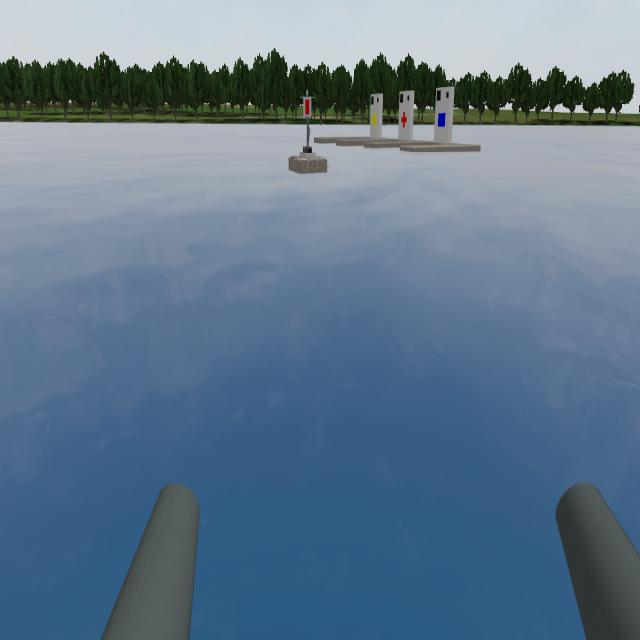red_pole: (296, 85, 320, 124)
